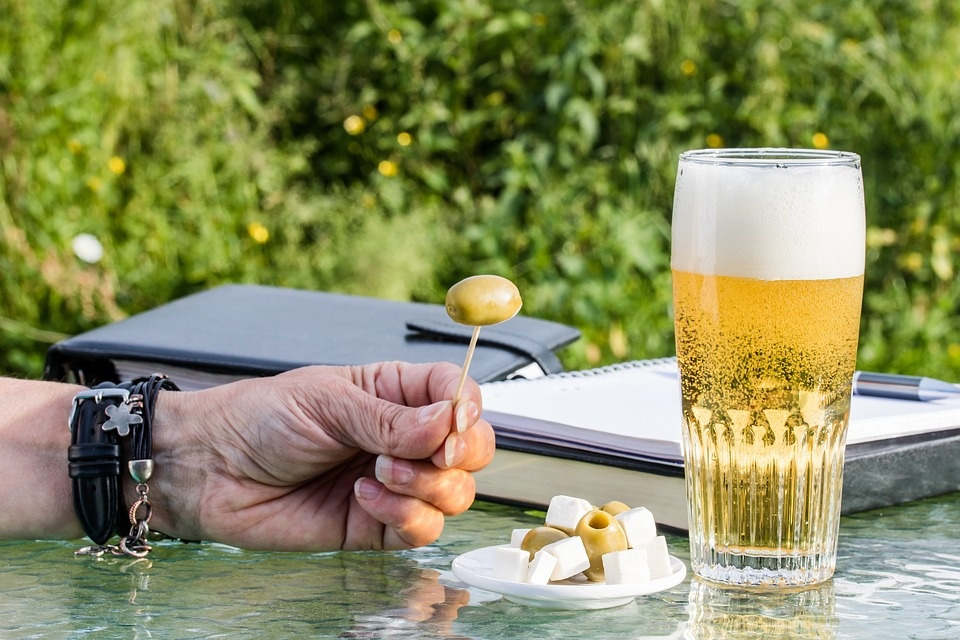glassBeer: (673, 141, 858, 594)
